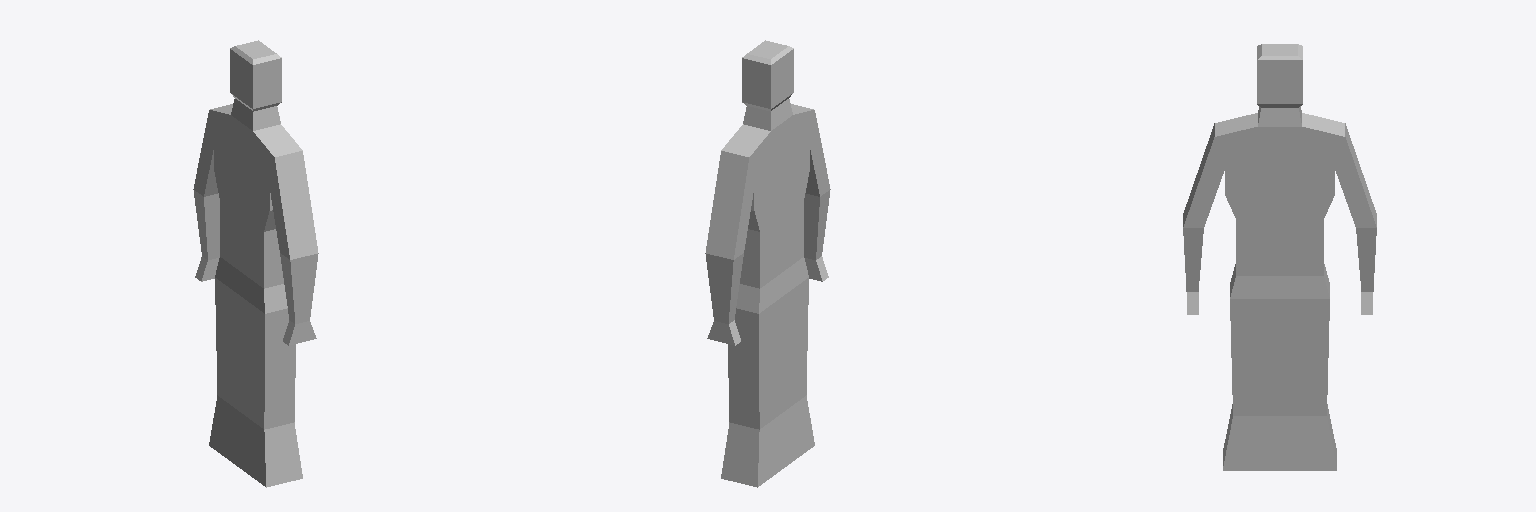
File: denjy.obj
3 renders of one model, left to right at view 1: azimuth 30°, elevation 25°; view 2: azimuth 150°, elevation 25°; view 3: azimuth 270°, elevation 25°, orthographic.
Visible parts, largest first — view 1: Plane.001; view 2: Plane.001; view 3: Plane.001.
Boxes of the visible parts, <box> form: Plane.001: <box>193,40,318,487</box>; Plane.001: <box>705,40,830,487</box>; Plane.001: <box>1183,44,1376,470</box>.
Bounding box in the file's own units: 0.1289 × 1.38 × 0.5871.